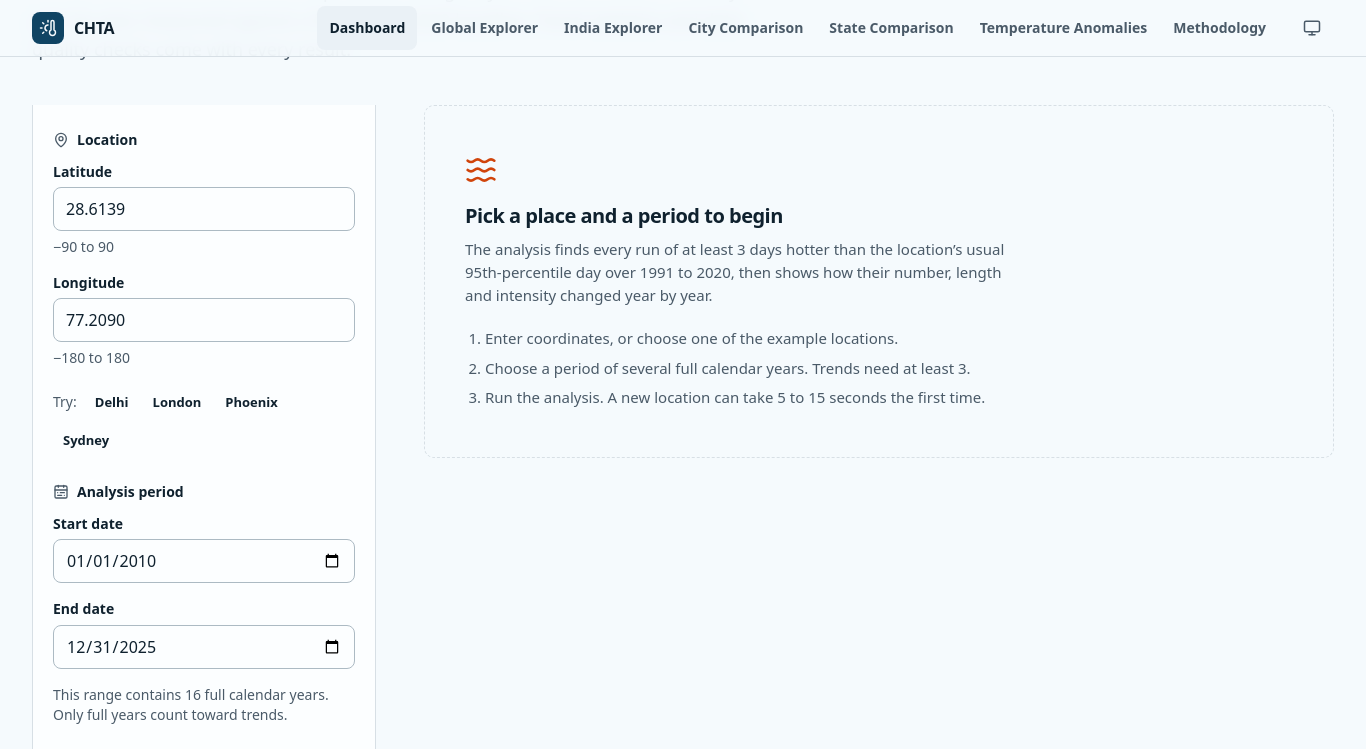
it: form validation › fills coordinates from an example location
The width and height of the screenshot is (1366, 749).
(page scrolled)
What coordinates should you click on to do the following:
click the button "Sydney"
I would click on:
 (86, 440)
Its box is [53,422,119,458].
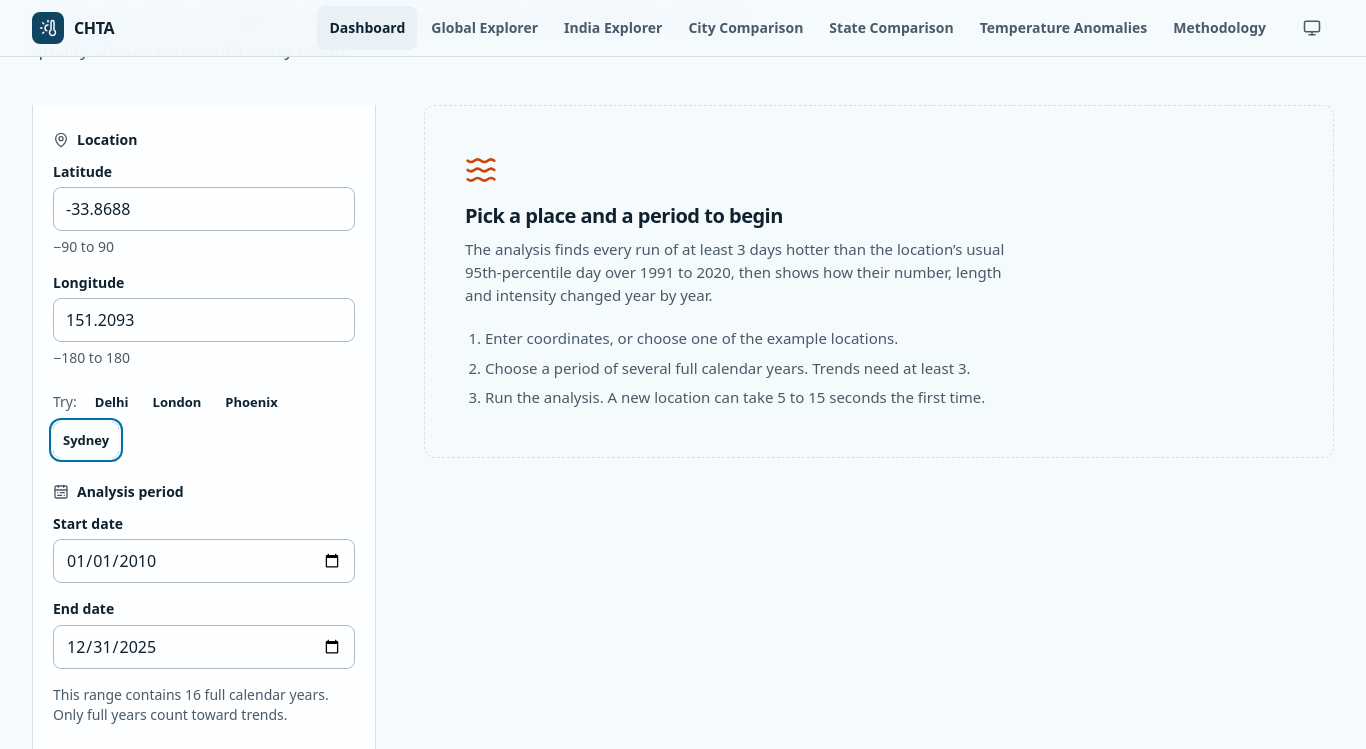
Expected: the field labelled "Latitude" holds "-33.8688", [53,187,355,231]
Expected: the field labelled "Longitude" holds "151.2093", [53,298,355,342]
